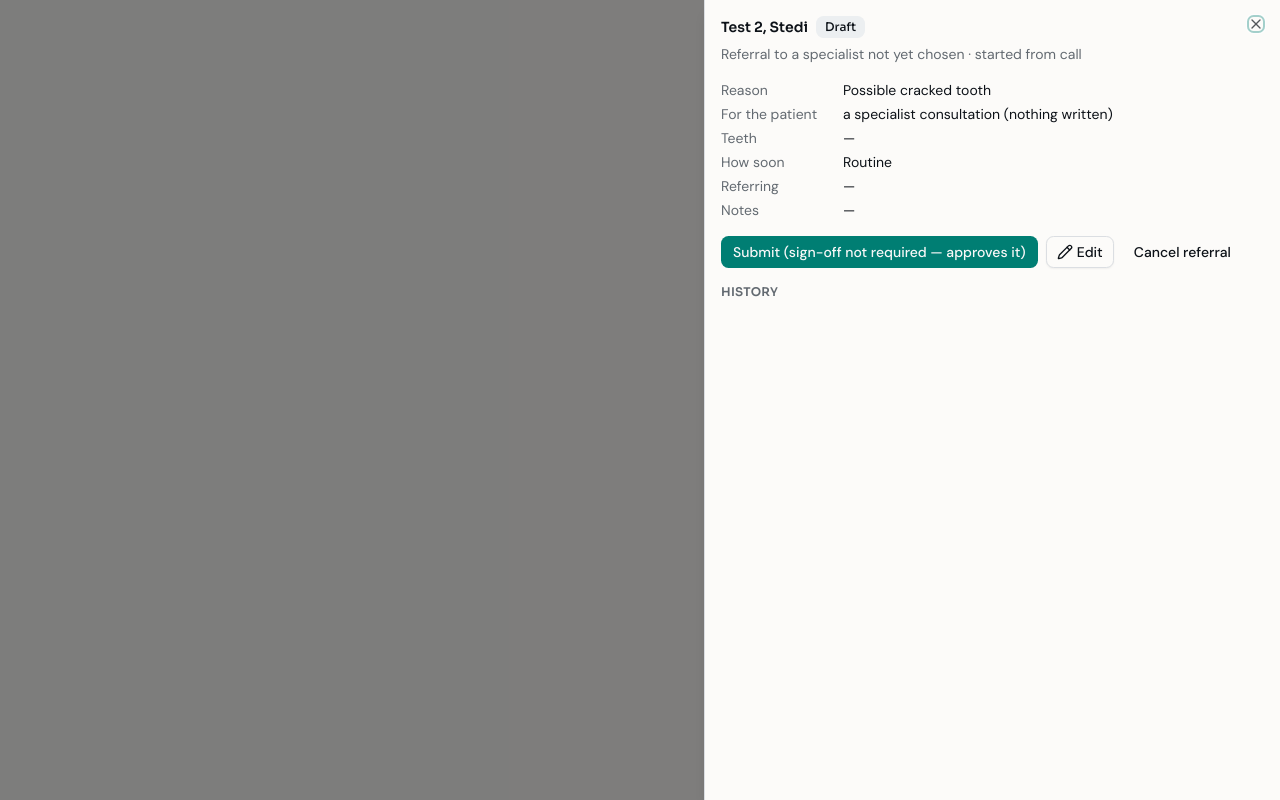
Scenario: the detail panel's moves › sign-off off for the office: the label says it approves, and the toast follows the server's status
Expected: the element with test id "tc-hub-actions" is shown, [721,236,1264,268]
Click the button with test id "tc-hub-submit". click: (879, 252)
box: [721,236,1038,268]
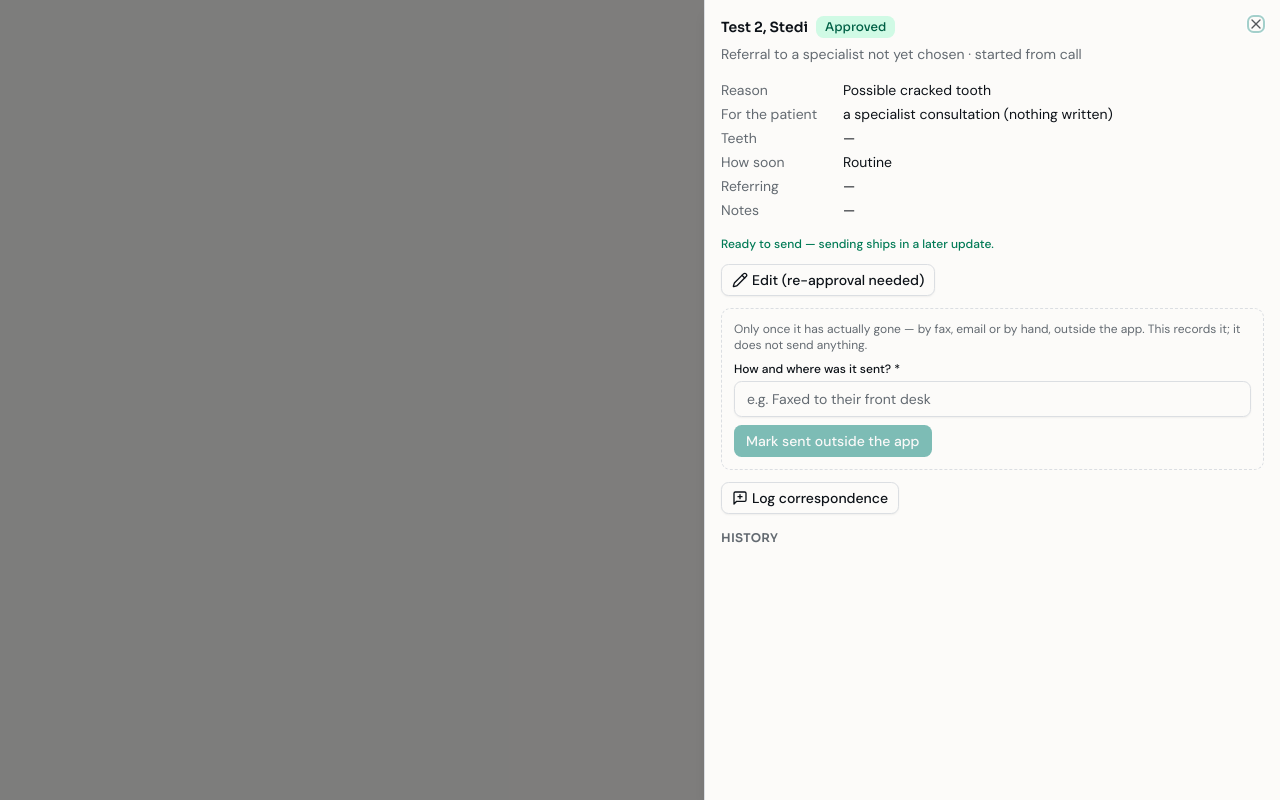
Expected: the text with test id "tc-referral-status" reads "Approved", [825,19,886,34]
